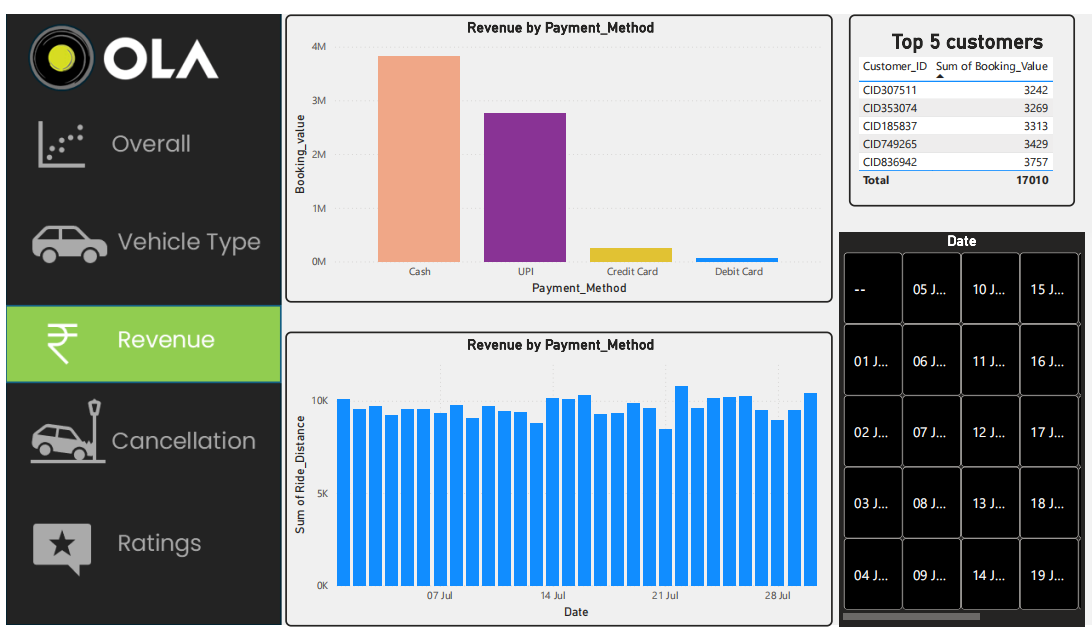

This screenshot's page, from the dashboard's own definition file:
{"tool":"powerbi","page":{"name":"Revenue","canvas":[1280,720],"ordinal":2},"visuals":[{"type":"columnChart","title":"Revenue  by Payment_Method","fields":{"Category":["July.Payment_Method"],"Y":["Sum(July.Booking_Value)"]},"box":[327.9,0,644.4,339.3],"z":0},{"type":"columnChart","title":"Revenue  by Payment_Method","fields":{"Y":["Sum(July.Ride_Distance)"],"Category":["July.Date"]},"box":[327.9,373.4,644.4,346.9],"z":1000},{"type":"tableEx","title":"Top 5 customers","fields":{"Values":["July.Customer_ID","Sum(July.Booking_Value)"]},"box":[991.3,0,265.4,225.5],"z":2000},{"type":"advancedSlicerVisual","fields":{"Values":["July.Date"]},"box":[979.9,255.9,288.1,464.4],"z":3000}]}

Visuals, with their boxes in screenshot pixels (x1, y1, x2, y2), scaled from the page's 1280x720 canvas onto the 1092x628 screenshot:
"Revenue  by Payment_Method" columnChart: crop(280, 0, 829, 296)
"Revenue  by Payment_Method" columnChart: crop(280, 326, 829, 627)
"Top 5 customers" tableEx: crop(846, 0, 1072, 197)
advancedSlicerVisual - July.Date: crop(836, 223, 1082, 627)
